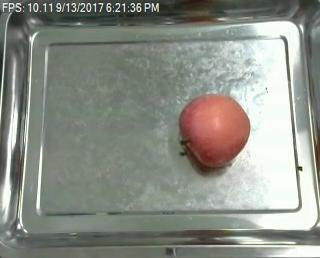apple: (177, 93, 252, 168)
